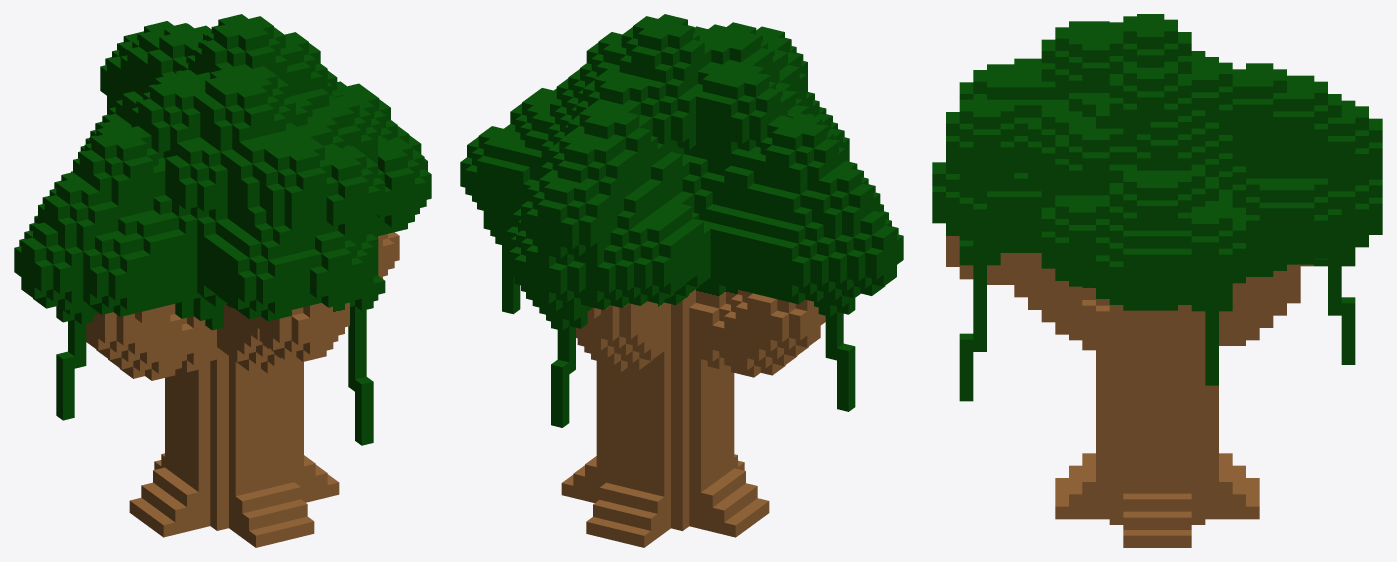
The model's file is Tree2.dae.
3 renders of one model, left to right at view 1: azimuth 30°, elevation 25°; view 2: azimuth 150°, elevation 25°; view 3: azimuth 270°, elevation 25°, orthographic.
Visible parts, largest first — view 1: tree2.merged; view 2: tree2.merged; view 3: tree2.merged.
Part boxes in pixels (x1,y1,x2,y2): tree2.merged: [14, 14, 431, 547]; tree2.merged: [460, 14, 903, 547]; tree2.merged: [932, 14, 1382, 547].
Bounding box in the file's own units: 3.3 × 3.9 × 3.3.
Materials: 1 (1 with a texture image).
